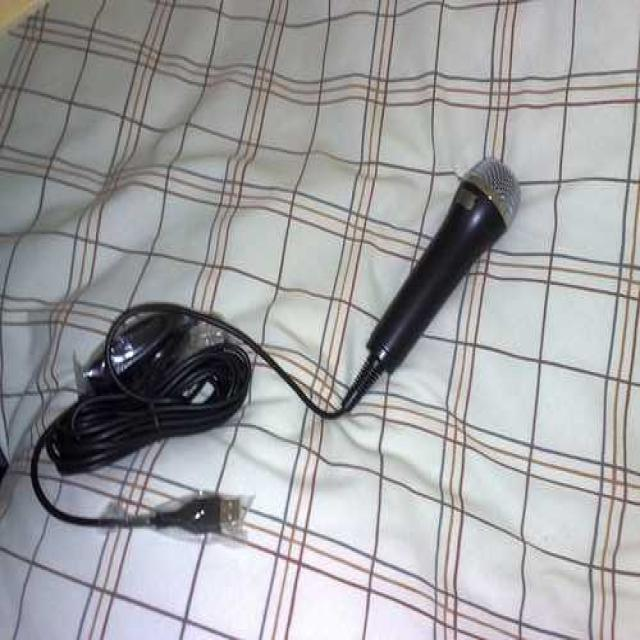microphone: (362, 142, 525, 387)
